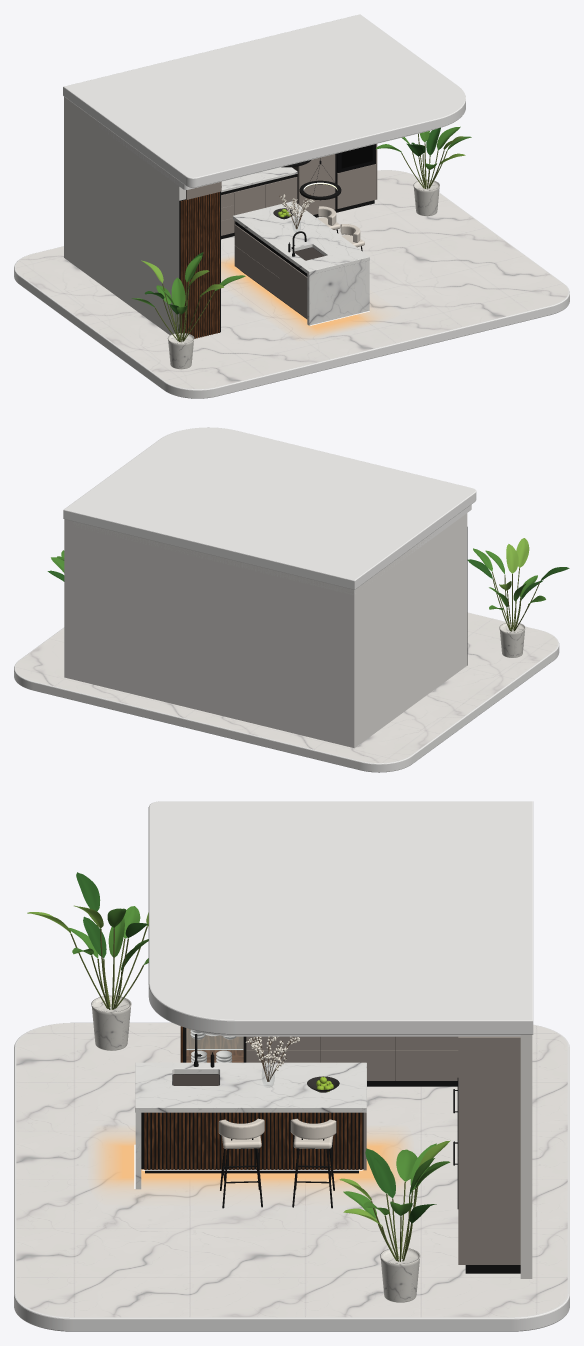
Rendered from kitchen-uncompressed.glb.
3 renders of one model, top to bottom at view 1: azimuth 30°, elevation 25°; view 2: azimuth 150°, elevation 25°; view 3: azimuth 270°, elevation 25°, orthographic. The views are drawn at different scales.
Parts seen in each view (by area): view 1: Stage__Ceiling_White, Stage__Marble_Floor, Stage__Wall_White, Island__Marble_Counter, Stage__Plinth_White, Cabinets__Cabinet_Taupe, Cabinets__Walnut, Island__Cabinet_Taupe, Island__Glow_Floor, Cabinets__Matte_Black, Plants__Pot_Stone, Plants__Leaf_Green (+5 smaller); view 2: Stage__Wall_White, Stage__Ceiling_White, Stage__Marble_Floor, Stage__Plinth_White, Plants__Leaf_Green, Plants__Pot_Stone, Plants__Leaf_Light, Plants__Stem, Plants__Leaf_Dark; view 3: Stage__Marble_Floor, Stage__Ceiling_White, Cabinets__Cabinet_Taupe, Island__Marble_Counter, Stage__Plinth_White, Island__Walnut, Island__Glow_Floor, Island__Matte_Black, Plants__Pot_Stone, Plants__Leaf_Green, Stage__Wall_White, Plants__Leaf_Dark (+8 smaller).
Part boxes in pixels (box(x1,y1,x2,y2)): Stage__Ceiling_White: box(63, 14, 465, 189); Stage__Marble_Floor: box(15, 170, 568, 388); Stage__Wall_White: box(64, 97, 185, 334); Island__Marble_Counter: box(233, 201, 369, 325); Stage__Plinth_White: box(14, 170, 569, 398); Cabinets__Cabinet_Taupe: box(186, 144, 377, 235); Cabinets__Walnut: box(180, 192, 219, 338); Island__Cabinet_Taupe: box(234, 221, 307, 318); Island__Glow_Floor: box(221, 256, 382, 336); Cabinets__Matte_Black: box(179, 153, 374, 337); Plants__Pot_Stone: box(167, 179, 439, 369); Plants__Leaf_Green: box(131, 126, 471, 314); Stage__Wall_White: box(64, 513, 467, 748); Stage__Ceiling_White: box(63, 427, 476, 594); Stage__Marble_Floor: box(15, 613, 557, 762); Stage__Plinth_White: box(14, 612, 559, 772); Plants__Leaf_Green: box(51, 548, 545, 609); Plants__Pot_Stone: box(499, 622, 525, 657); Plants__Leaf_Light: box(499, 538, 529, 590); Plants__Stem: box(492, 568, 539, 631); Plants__Leaf_Dark: box(47, 559, 569, 600); Stage__Marble_Floor: box(16, 1023, 567, 1317); Stage__Ceiling_White: box(148, 801, 533, 1036); Cabinets__Cabinet_Taupe: box(246, 1036, 520, 1264); Island__Marble_Counter: box(135, 1062, 366, 1189); Stage__Plinth_White: box(14, 1022, 569, 1331); Island__Walnut: box(144, 1112, 362, 1169); Island__Glow_Floor: box(94, 1131, 407, 1192); Island__Matte_Black: box(141, 1112, 363, 1173); Plants__Pot_Stone: box(91, 995, 420, 1302); Plants__Leaf_Green: box(68, 906, 450, 1218); Stage__Wall_White: box(520, 1034, 532, 1278); Plants__Leaf_Dark: box(76, 872, 436, 1223).
Bounding box in the file's own units: 7.67 × 3.13 × 5.77.
Materials: 35 (8 with a texture image).
